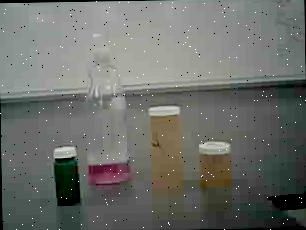Bottle A: (146, 104, 188, 192)
Bottle B: (196, 138, 233, 190)
Bottle C: (48, 145, 84, 206)
hazard: (83, 17, 136, 188)
